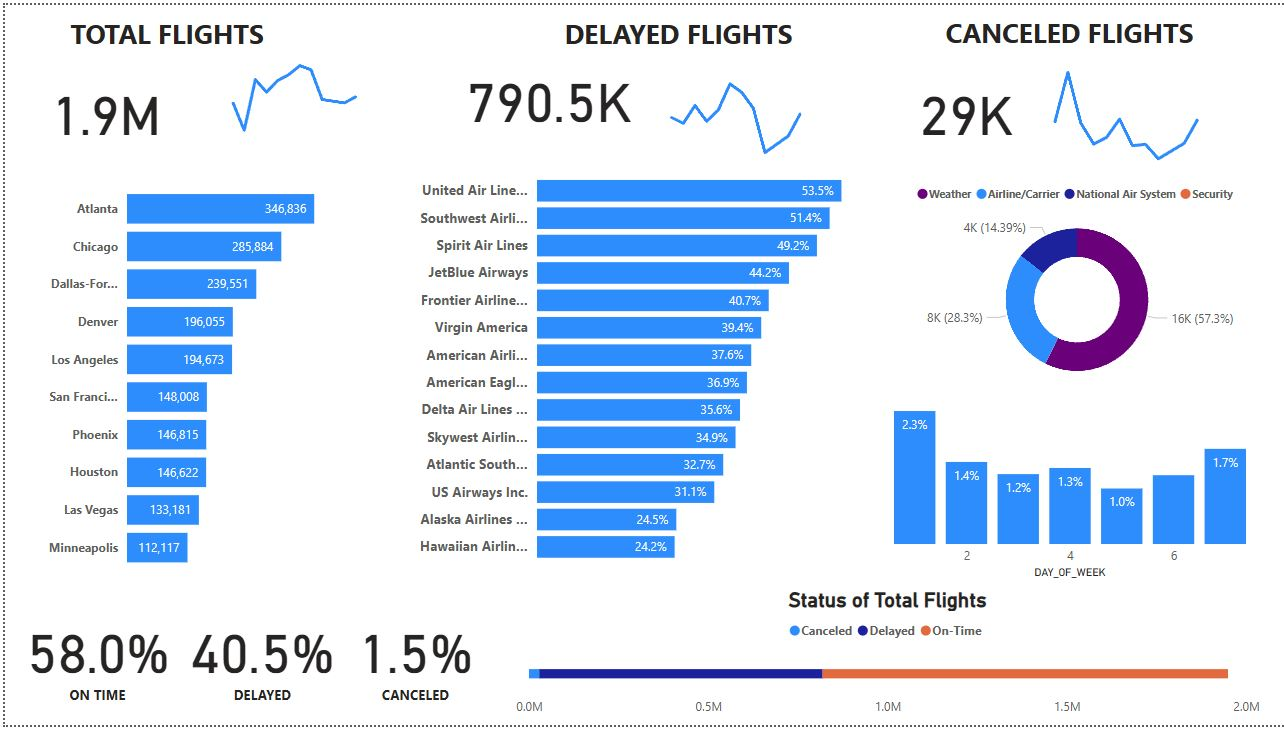

The dashboard page shown, as its layout file describes it:
{"tool":"powerbi","page":{"name":"Page 1","canvas":[1280,720],"ordinal":0},"visuals":[{"type":"card","title":"Total ","fields":{"Values":["flights.Total_Flights"]},"box":[0,38,202,132],"z":0,"group":"g4"},{"type":"lineChart","fields":{"Y":["flights.Total_Flights"],"Category":["flights.MONTH"]},"box":[202,29,197,132],"z":1000,"group":"g4"},{"type":"card","fields":{"Values":["flights.Delayed_Flights"]},"box":[448,25,192,132],"z":2000,"group":"g5"},{"type":"lineChart","fields":{"Category":["flights.MONTH"],"Y":["flights.Delayed_Flights"]},"box":[640,62,205,95],"z":3000,"group":"g5"},{"type":"card","fields":{"Values":["flights.Canceled_Flights"]},"box":[881,38,161,132],"z":4000,"group":"g6"},{"type":"lineChart","fields":{"Category":["flights.MONTH"],"Y":["flights.Canceled_Flights"]},"box":[1022,30,224,140],"z":5000,"group":"g6"},{"type":"clusteredBarChart","fields":{"Category":["airports.CITY"],"Y":["flights.Total_Flights"]},"box":[24.5,160.9,335.5,417.3],"z":6000},{"type":"card","fields":{"Values":["flights.%_On_Time"]},"box":[8.2,596.4,169.1,111.8],"z":6000,"group":"g1"},{"type":"clusteredBarChart","fields":{"Category":["airlines.AIRLINE"],"Y":["flights.%_Delayed"]},"box":[399,151,482,418],"z":7000},{"type":"card","fields":{"Values":["flights.%_Delayed"]},"box":[177.3,596.4,160.9,111.8],"z":7000,"group":"g2"},{"type":"donutChart","fields":{"Category":["cancellation_codes.CANCELLATION_DESCRIPTION"],"Y":["flights.Canceled_Flights"]},"box":[884,170,376,222],"z":8000},{"type":"card","fields":{"Values":["flights.%_Canceled"]},"box":[338.2,596.4,145.5,111.8],"z":8000,"group":"g3"},{"type":"columnChart","fields":{"Category":["flights.DAY_OF_WEEK"],"Y":["flights.%_Canceled"]},"box":[884,370,362,208],"z":9000},{"type":"barChart","title":"Status of Total Flights","fields":{"Y":["flights.Total_Flights"],"Series":["flights.Status"]},"box":[505.5,582.7,754.5,137.3],"z":10000},{"type":"group","id":"g1","title":"Group 1","box":[8.2,596.4,169.1,123.6],"z":11000},{"type":"group","id":"g2","title":"Group 2","box":[177.3,596.4,160.9,123.6],"z":12000},{"type":"group","id":"g3","title":"Group 3","box":[338.2,596.4,145.5,123.6],"z":13000},{"type":"textbox","box":[26,676,133,44],"z":13001,"group":"g1"},{"type":"textbox","box":[191,676,133,44],"z":13002,"group":"g2"},{"type":"textbox","box":[344,676,133,44],"z":13003,"group":"g3"},{"type":"textbox","box":[3,5,311,49],"z":14000,"group":"g4"},{"type":"textbox","box":[505,5,337,66],"z":14001,"group":"g5"},{"type":"textbox","box":[909,4,311,49],"z":14002,"group":"g6"},{"type":"group","id":"g4","title":"Group 4","box":[0,5,399,165],"z":14003,"group":"g5"},{"type":"group","id":"g5","title":"Group 5","box":[0,5,845,165],"z":14004,"group":"g6"},{"type":"group","id":"g6","title":"Group 6","box":[0,4,1246,166],"z":14005}]}

Visuals, with their boxes in screenshot pixels (x1, y1, x2, y2), scaled from the page's 1280x720 canvas onto the 1284x731 screenshot:
"Total " card: BBox(0, 39, 203, 173)
lineChart - flights.Total_Flights x flights.MONTH: BBox(203, 29, 400, 163)
card - flights.Delayed_Flights: BBox(449, 25, 642, 159)
lineChart - flights.MONTH x flights.Delayed_Flights: BBox(642, 63, 848, 159)
card - flights.Canceled_Flights: BBox(884, 39, 1045, 173)
lineChart - flights.MONTH x flights.Canceled_Flights: BBox(1025, 30, 1250, 173)
clusteredBarChart - airports.CITY x flights.Total_Flights: BBox(25, 163, 361, 587)
card - flights.%_On_Time: BBox(8, 606, 178, 719)
clusteredBarChart - airlines.AIRLINE x flights.%_Delayed: BBox(400, 153, 884, 578)
card - flights.%_Delayed: BBox(178, 606, 339, 719)
donutChart - cancellation_codes.CANCELLATION_DESCRIPTION x flights.Canceled_Flights: BBox(887, 173, 1264, 398)
card - flights.%_Canceled: BBox(339, 606, 485, 719)
columnChart - flights.DAY_OF_WEEK x flights.%_Canceled: BBox(887, 376, 1250, 587)
"Status of Total Flights" barChart: BBox(507, 592, 1264, 730)
"Group 1" group: BBox(8, 606, 178, 730)
"Group 2" group: BBox(178, 606, 339, 730)
"Group 3" group: BBox(339, 606, 485, 730)
textbox: BBox(26, 686, 159, 730)
textbox: BBox(192, 686, 325, 730)
textbox: BBox(345, 686, 478, 730)
textbox: BBox(3, 5, 315, 55)
textbox: BBox(507, 5, 845, 72)
textbox: BBox(912, 4, 1224, 54)
"Group 4" group: BBox(0, 5, 400, 173)
"Group 5" group: BBox(0, 5, 848, 173)
"Group 6" group: BBox(0, 4, 1250, 173)
